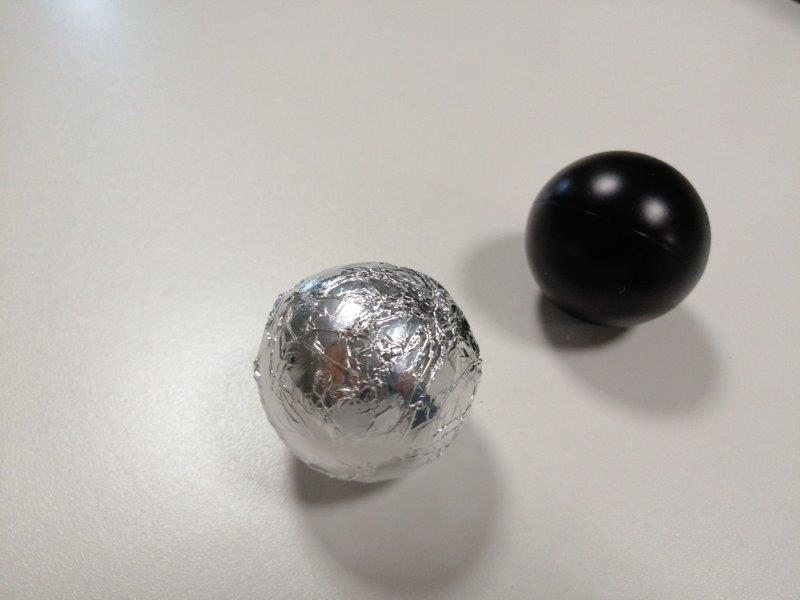bianca: (251, 261, 484, 482)
nera: (524, 151, 711, 327)
